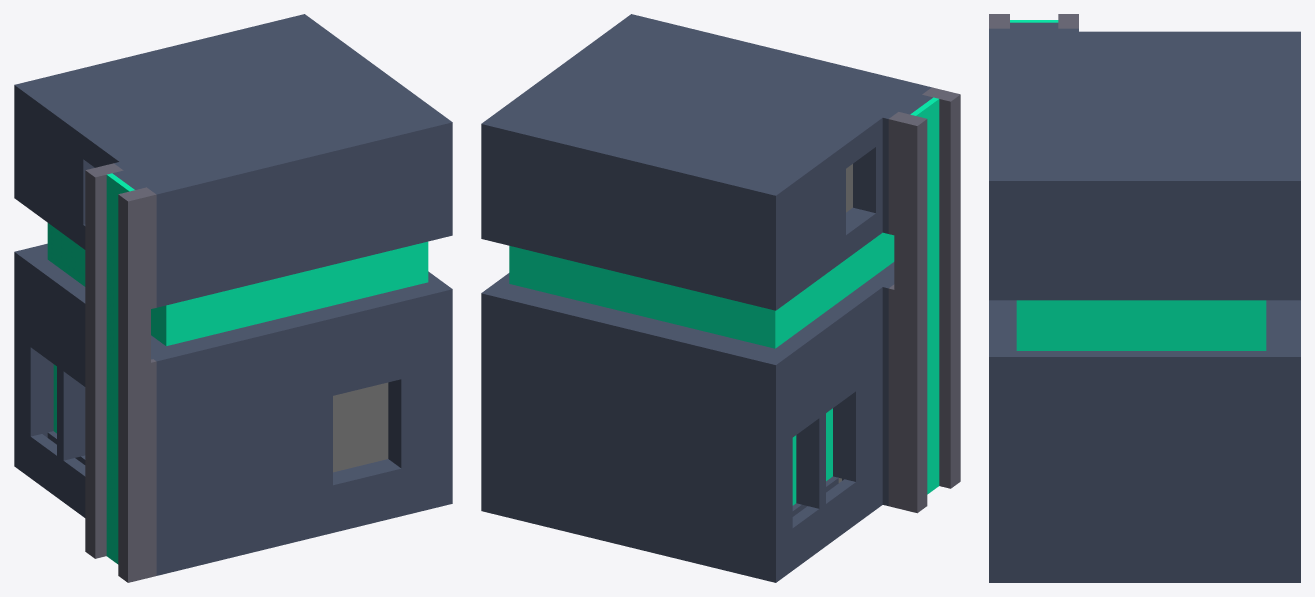
Rendered from Building005(2).obj.
The picture shows the model from 3 angles, left to right: view 1: azimuth 30°, elevation 25°; view 2: azimuth 150°, elevation 25°; view 3: azimuth 270°, elevation 25°; orthographic projection. The views are drawn at different scales.
Size of the model in its own units: 5.7 by 6.4 by 4.5.
1 material, 1 textured.
